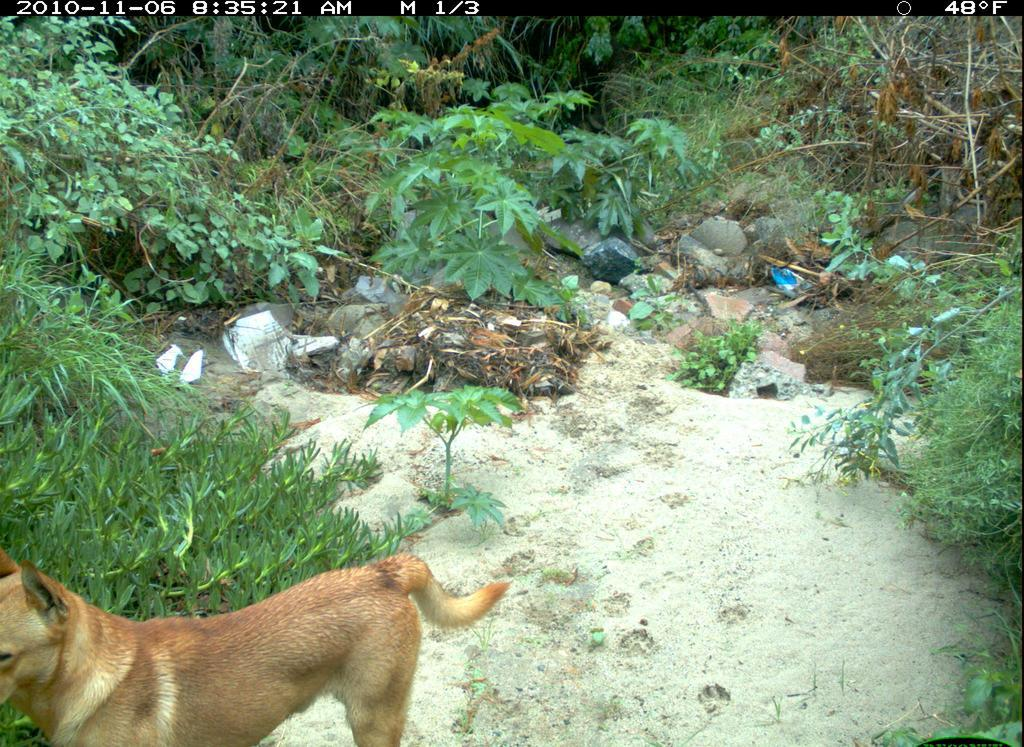dog: (2, 516, 519, 747)
